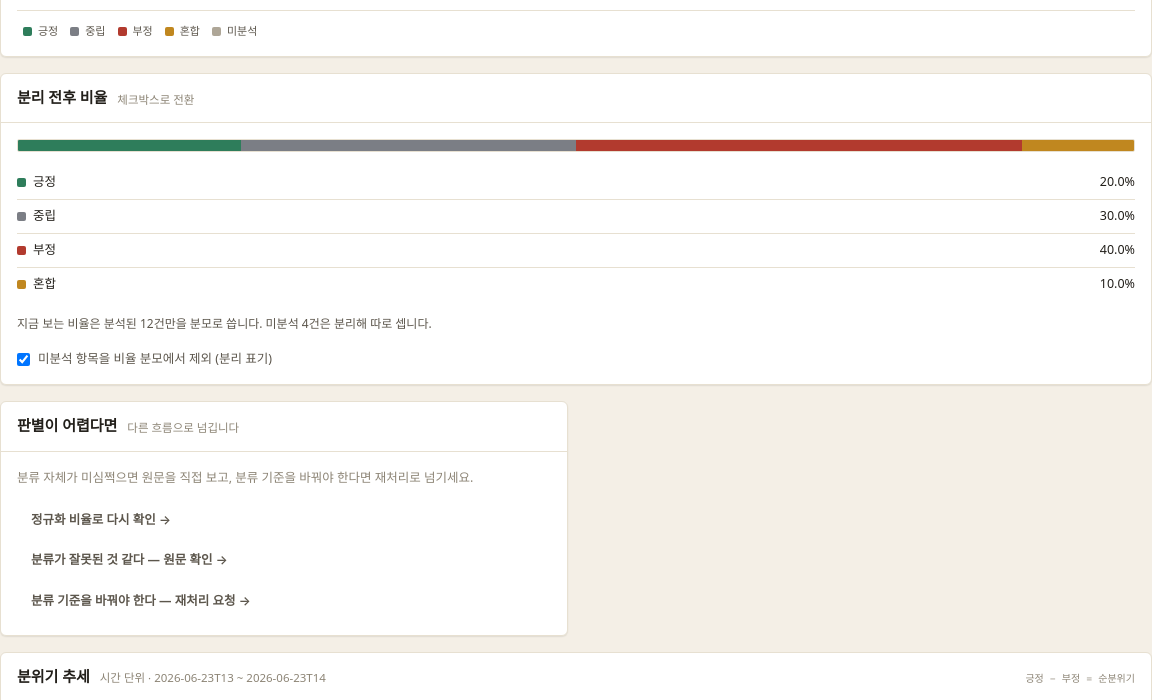
Test case: 분리 전후 비율 전환 › says which denominator is in use, and switches that sentence with the box
(page scrolled)
Expected: the text "지금 보는 비율은 분석된 12건만을 분모로 씁니다. 미분석 4건은 분리해 따로 셉니다." is shown, left=17, top=315, right=432, bottom=332
Click the checkbox labelled "미분석 항목을 비율 분모에서 제외 (분리 표기)" at (24, 359), box left=17, top=352, right=30, bottom=366
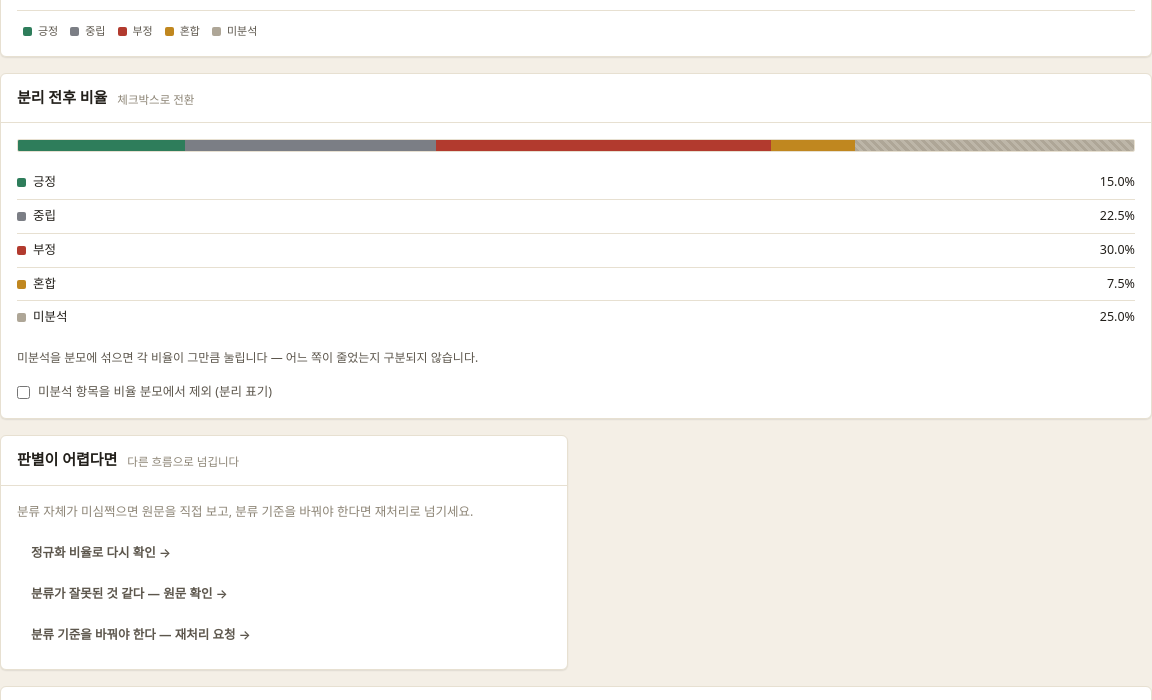
Now the text with class "sent-split-note" reads "미분석을 분모에 섞으면 각 비율이 그만큼 눌립니다 — 어느 쪽이 줄었는지 구분되지 않습니다.", box left=17, top=349, right=478, bottom=366
